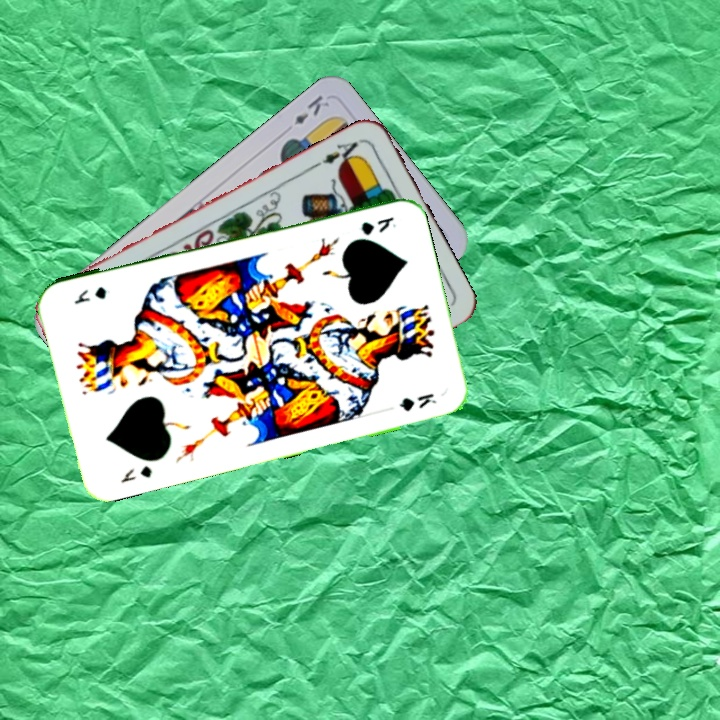EA: (310, 135, 365, 170)
EK: (290, 91, 332, 128)
GK: (357, 212, 399, 238), (116, 461, 155, 486)
